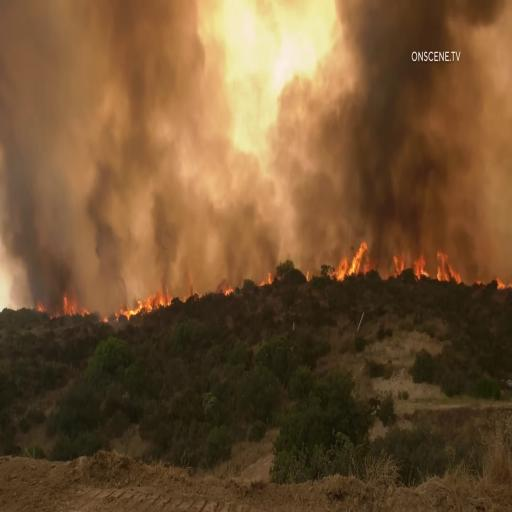fire: (106, 283, 174, 318), (334, 229, 369, 275), (433, 244, 461, 292)
smoke: (82, 131, 180, 276), (4, 132, 66, 297)
